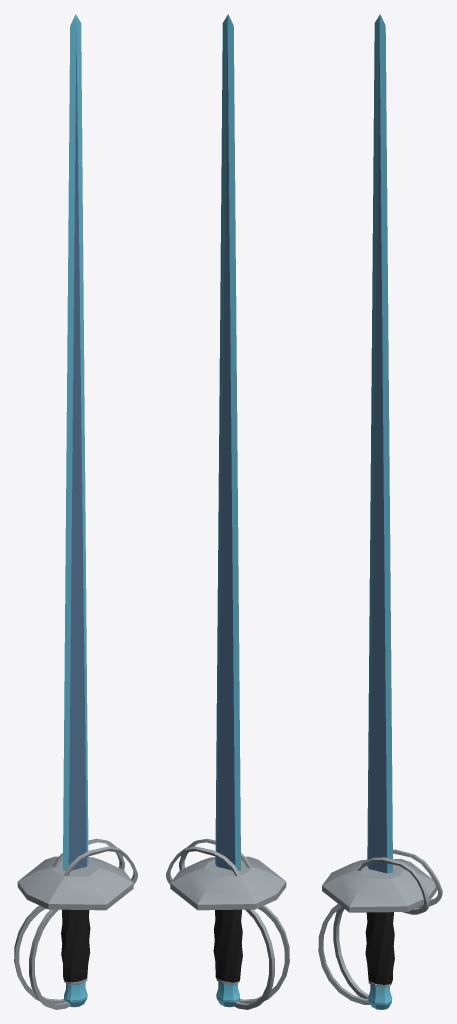
Rendered from SM_Sword13_Rapier_6FantasyBlue.fbx.
3 views of the same model, side by side, from view 1: azimuth 30°, elevation 25°; view 2: azimuth 150°, elevation 25°; view 3: azimuth 330°, elevation 25° (orthographic).
Visible parts, largest first — view 1: Cube.359, Cylinder.462, Cube.360, Cylinder.464, Sphere.137; view 2: Cube.359, Cylinder.462, Cube.360, Cylinder.464, Sphere.137; view 3: Cube.359, Cylinder.462, Cube.360, Cylinder.464, Sphere.137.
Boxes of the visible parts, x1,y1,x2,y2 form: Cube.359: (63, 14, 88, 870); Cylinder.462: (17, 856, 133, 910); Cube.360: (14, 838, 137, 1009); Cylinder.464: (61, 909, 90, 982); Sphere.137: (64, 978, 87, 1007); Cube.359: (215, 14, 240, 870); Cylinder.462: (170, 856, 286, 910); Cube.360: (166, 838, 289, 1009); Cylinder.464: (213, 909, 242, 982); Sphere.137: (216, 978, 239, 1007); Cube.359: (367, 14, 392, 873); Cylinder.462: (322, 859, 437, 912); Cube.360: (318, 849, 442, 1004); Cylinder.464: (365, 912, 394, 984); Sphere.137: (368, 981, 392, 1009).
Bounding box in the file's own units: 0.1179 × 1.03 × 0.1152.
